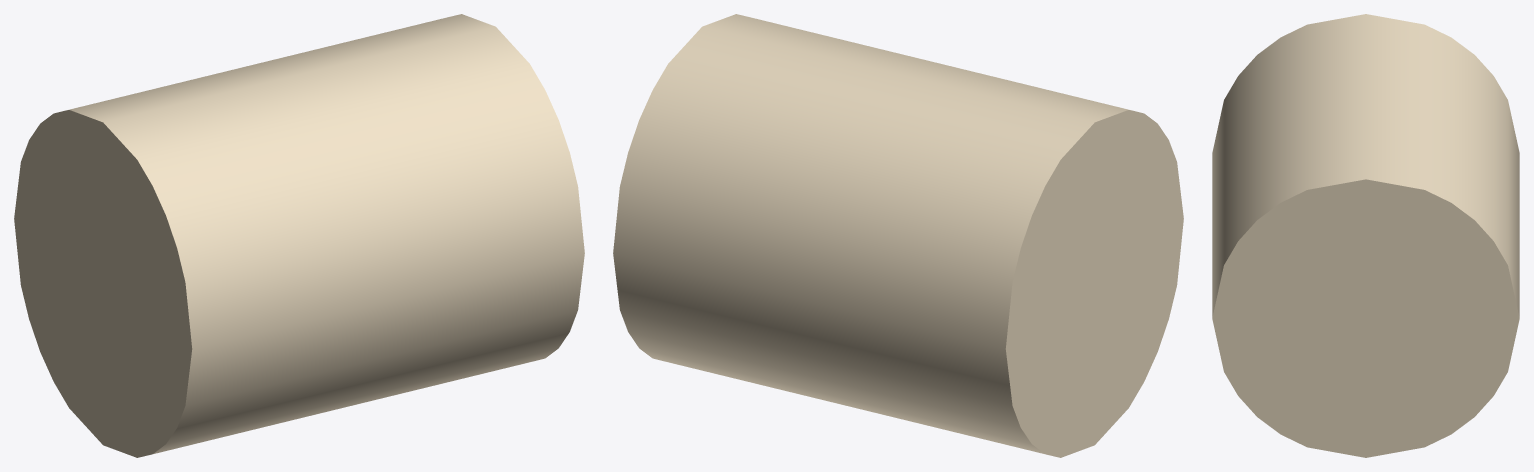
File: bathroom-toilet-paper-roll.gltf
The picture shows the model from 3 angles, left to right: view 1: azimuth 30°, elevation 25°; view 2: azimuth 150°, elevation 25°; view 3: azimuth 270°, elevation 25°; orthographic projection. The views are drawn at different scales.
Parts seen in each view (by area): view 1: Toilet paper roll; view 2: Toilet paper roll; view 3: Toilet paper roll.
Boxes of the visible parts, bbox=[...] form: Toilet paper roll: bbox=[14, 14, 584, 457]; Toilet paper roll: bbox=[613, 14, 1183, 457]; Toilet paper roll: bbox=[1212, 14, 1519, 457].
Size of the model in its own units: 0.14 by 0.11 by 0.11.
